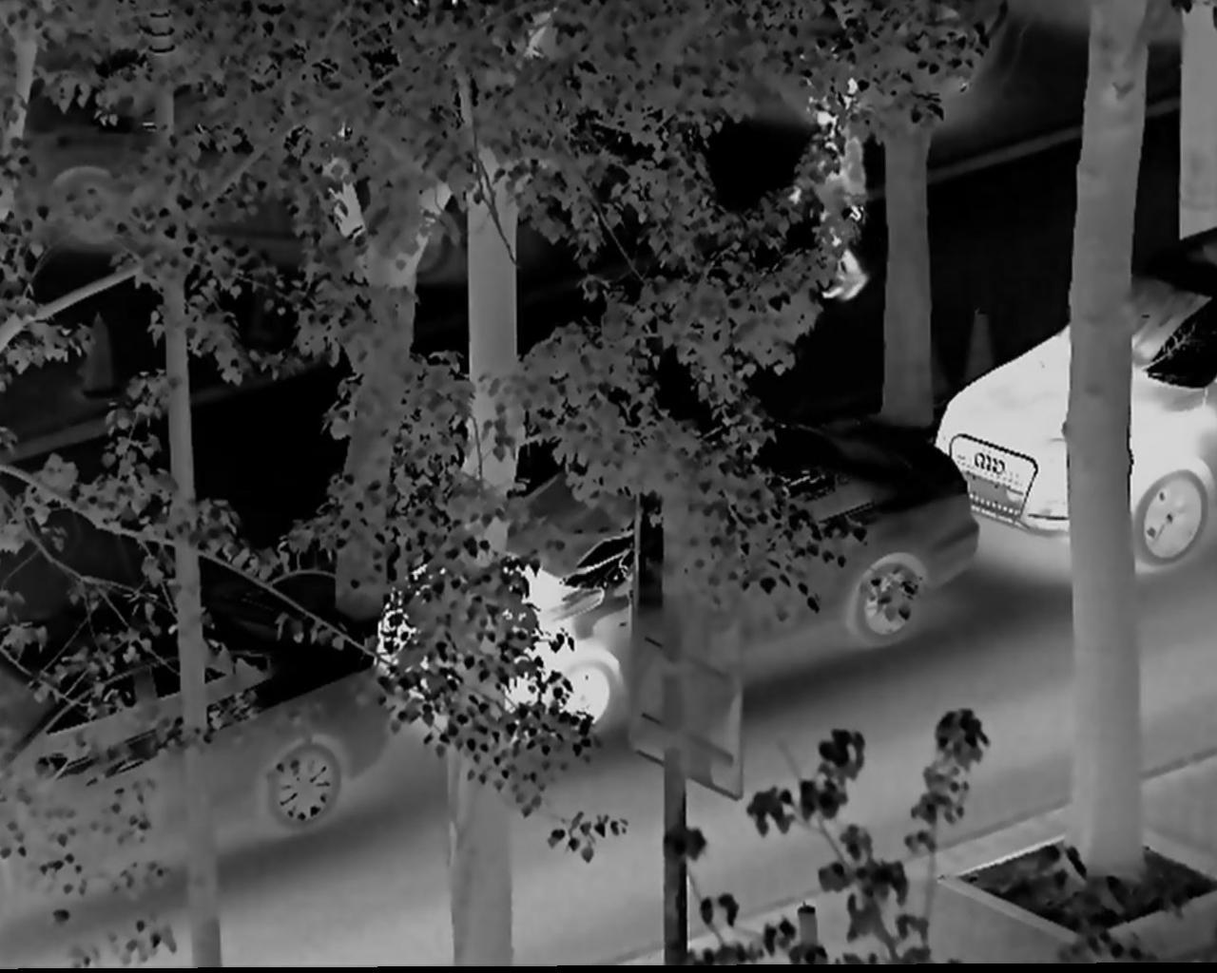person: (780, 73, 885, 309)
